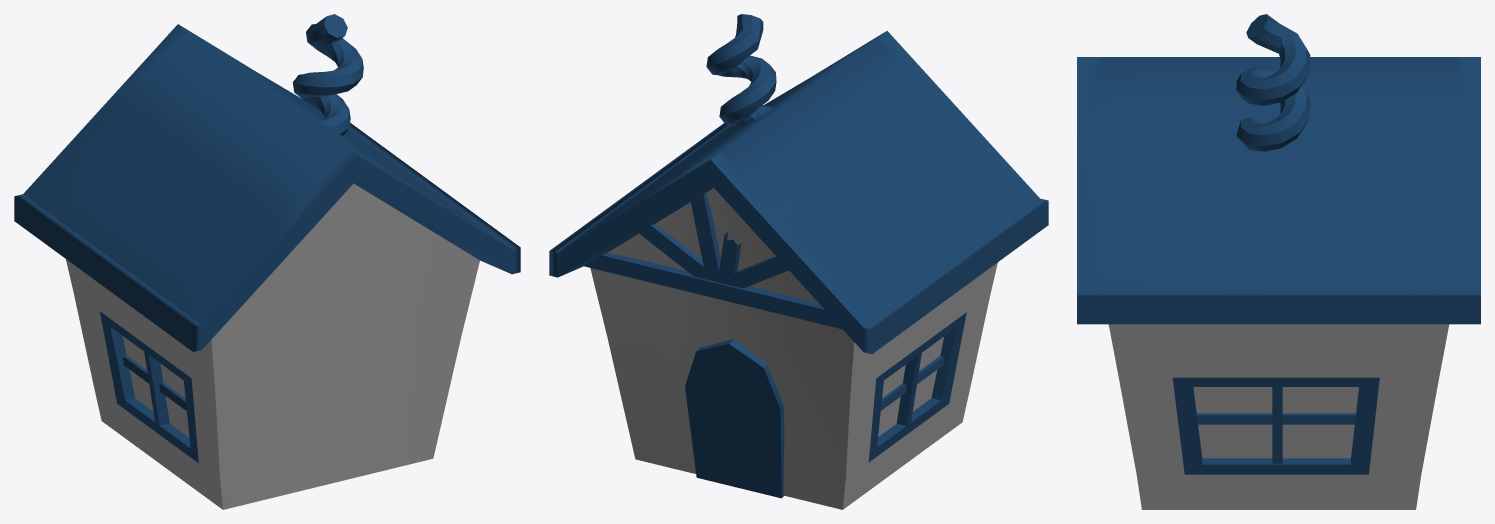
Rendered from house_02.fbx.
3 renders of one model, left to right at view 1: azimuth 30°, elevation 25°; view 2: azimuth 150°, elevation 25°; view 3: azimuth 270°, elevation 25°, orthographic. The views are drawn at different scales.
Parts seen in each view (by area): view 1: house_02; view 2: house_02; view 3: house_02.
Part boxes in pixels (<box>): house_02: <box>14,14,520,509</box>; house_02: <box>549,14,1048,509</box>; house_02: <box>1077,14,1480,509</box>.
Bounding box in the file's own units: 1.02 × 1.24 × 0.9702.
